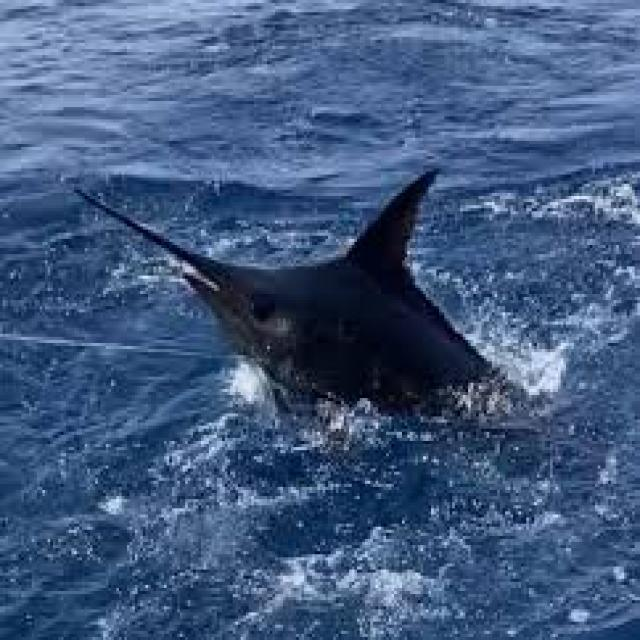Blue Marlin: (72, 168, 540, 420)
